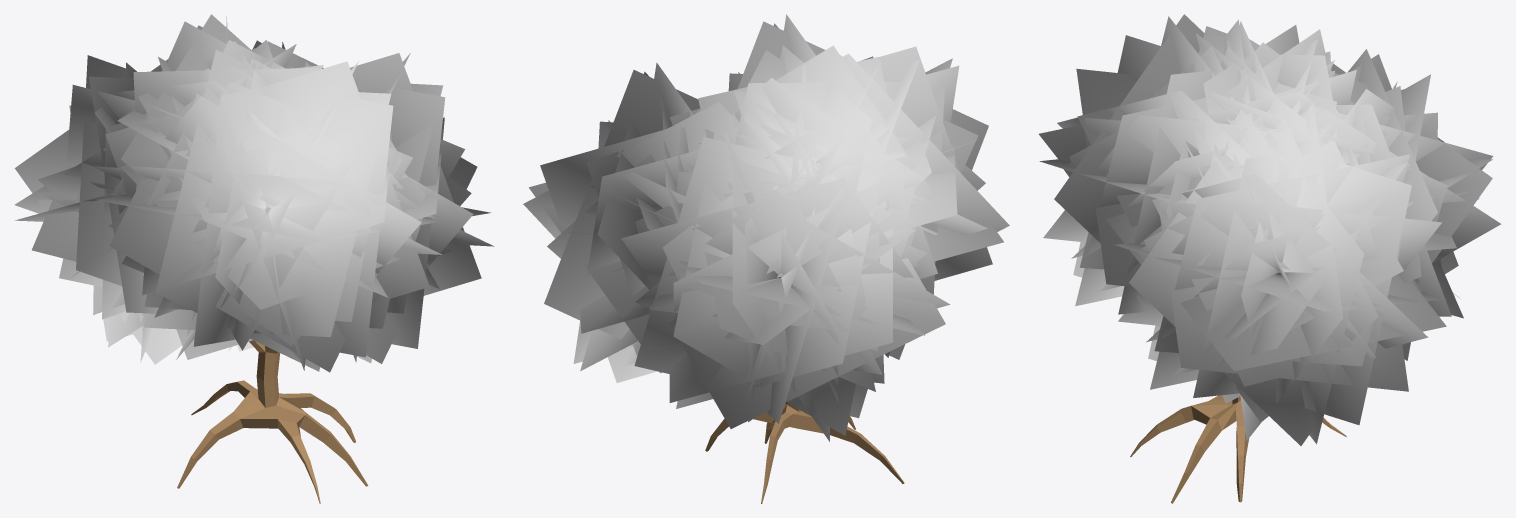
File: Tree.fbx
3 renders of one model, left to right at view 1: azimuth 30°, elevation 25°; view 2: azimuth 150°, elevation 25°; view 3: azimuth 270°, elevation 25°, orthographic. The views are drawn at different scales.
Parts seen in each view (by area): view 1: Leaves.001, Cube; view 2: Leaves.001, Cube; view 3: Leaves.001, Cube.
Part boxes in pixels (x1=…): Leaves.001: x1=14, y1=14, x2=494, y2=372; Cube: x1=177, y1=340, x2=368, y2=503; Leaves.001: x1=523, y1=14, x2=1009, y2=441; Cube: x1=705, y1=402, x2=904, y2=503; Leaves.001: x1=1039, y1=14, x2=1501, y2=445; Cube: x1=1130, y1=395, x2=1346, y2=503.
Size of the model in its own units: 2060 by 2132 by 2060.
